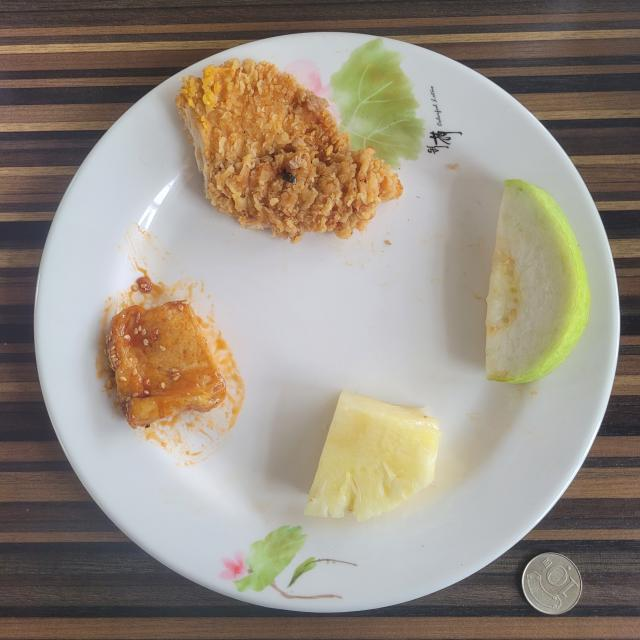coin: (521, 552, 582, 615)
creamy tofu: (106, 300, 226, 429)
fried chicken cutlet: (176, 59, 402, 242)
guava -sliced-: (486, 180, 590, 384)
pineapple: (305, 391, 441, 521)
